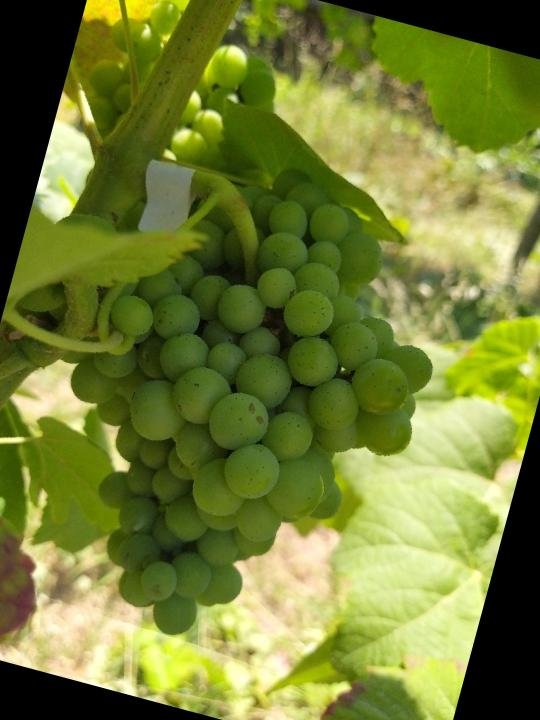grape: (1, 124, 475, 683)
